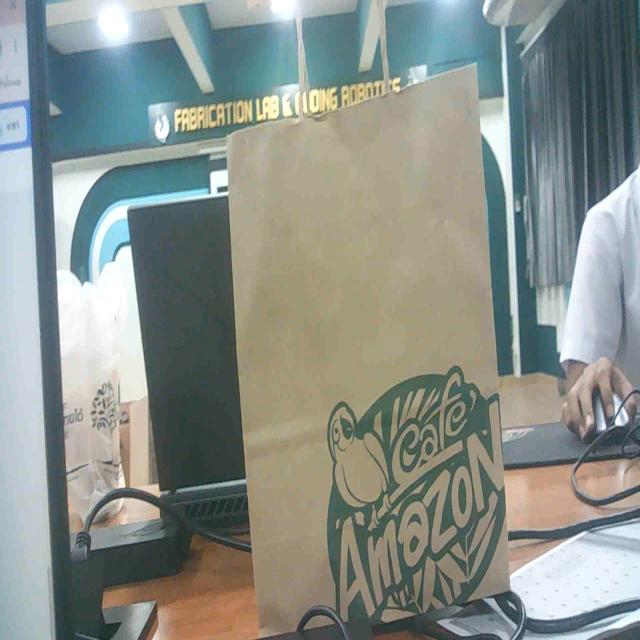bag: (217, 76, 528, 610)
